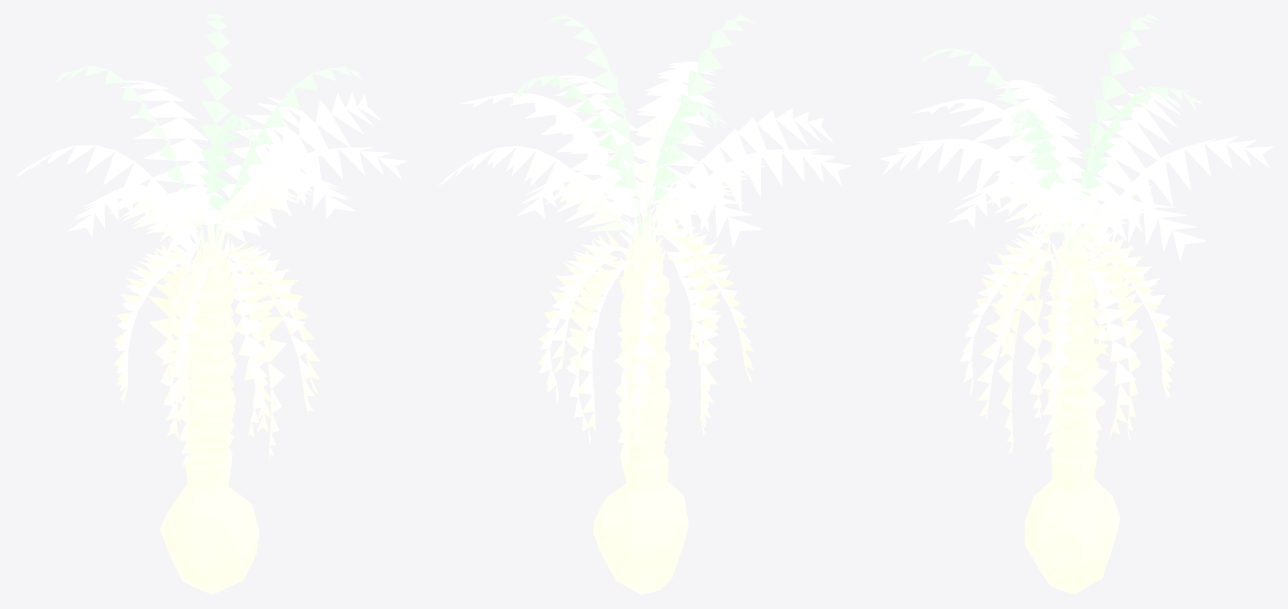
The model's file is SRC_palm_young.glb.
3 renders of one model, left to right at view 1: azimuth 30°, elevation 25°; view 2: azimuth 150°, elevation 25°; view 3: azimuth 270°, elevation 25°, orthographic. The views are drawn at different scales.
Visible parts, largest first — view 1: SRC_palm_young; view 2: SRC_palm_young; view 3: SRC_palm_young.
Boxes of the visible parts, bbox=[...] form: SRC_palm_young: bbox=[16, 14, 407, 594]; SRC_palm_young: bbox=[437, 14, 851, 594]; SRC_palm_young: bbox=[880, 14, 1273, 594].
Size of the model in its own units: 3.35 by 5 by 3.35.
1 material, 1 textured.
